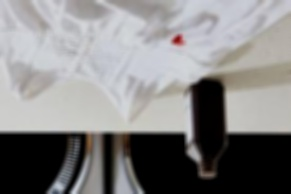blood: (170, 34, 187, 48)
